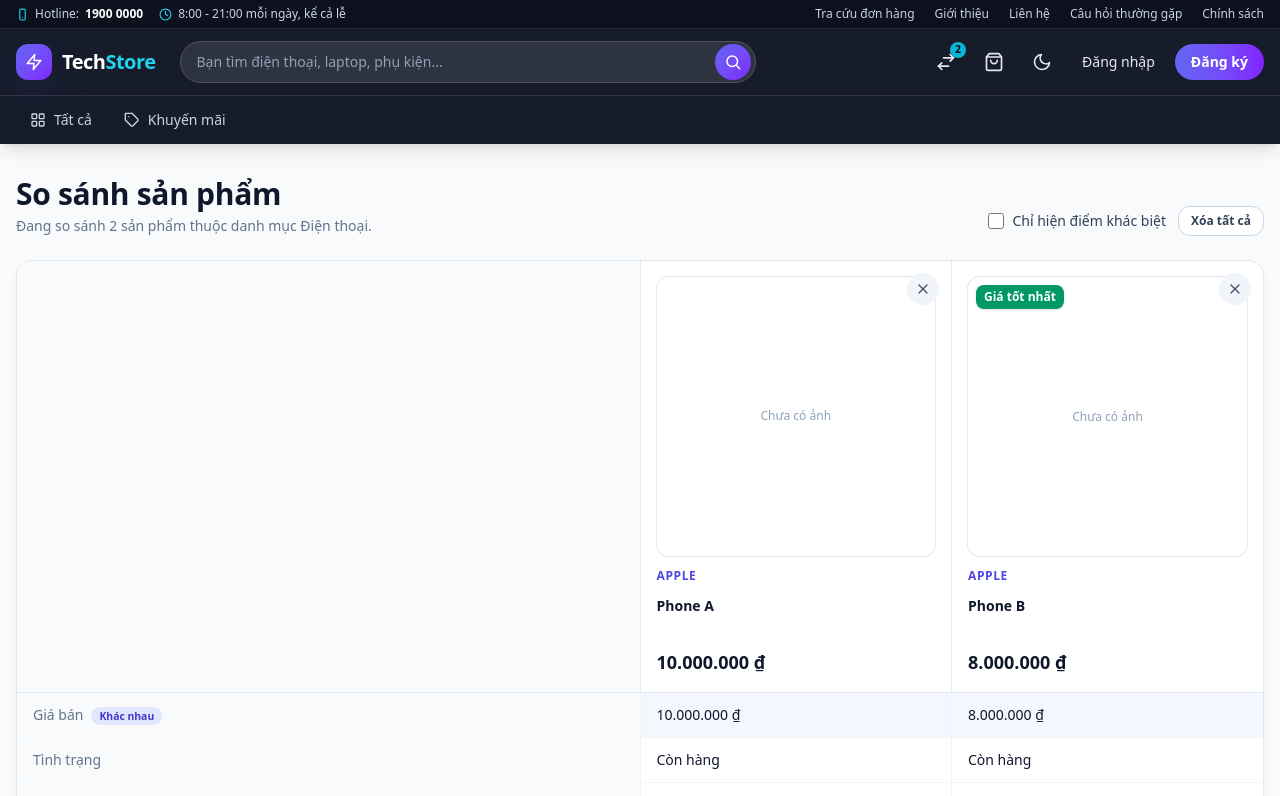
Trang so sánh › bấm dấu × trên một cột thì bỏ sản phẩm đó; còn 1 sản phẩm thì nhắc chọn thêm
Expected: the link "Phone B" is shown, [968, 596, 1025, 615]
Click the button named "Bỏ Phone B khỏi so sánh" at (1235, 289), box [1219, 273, 1251, 305]
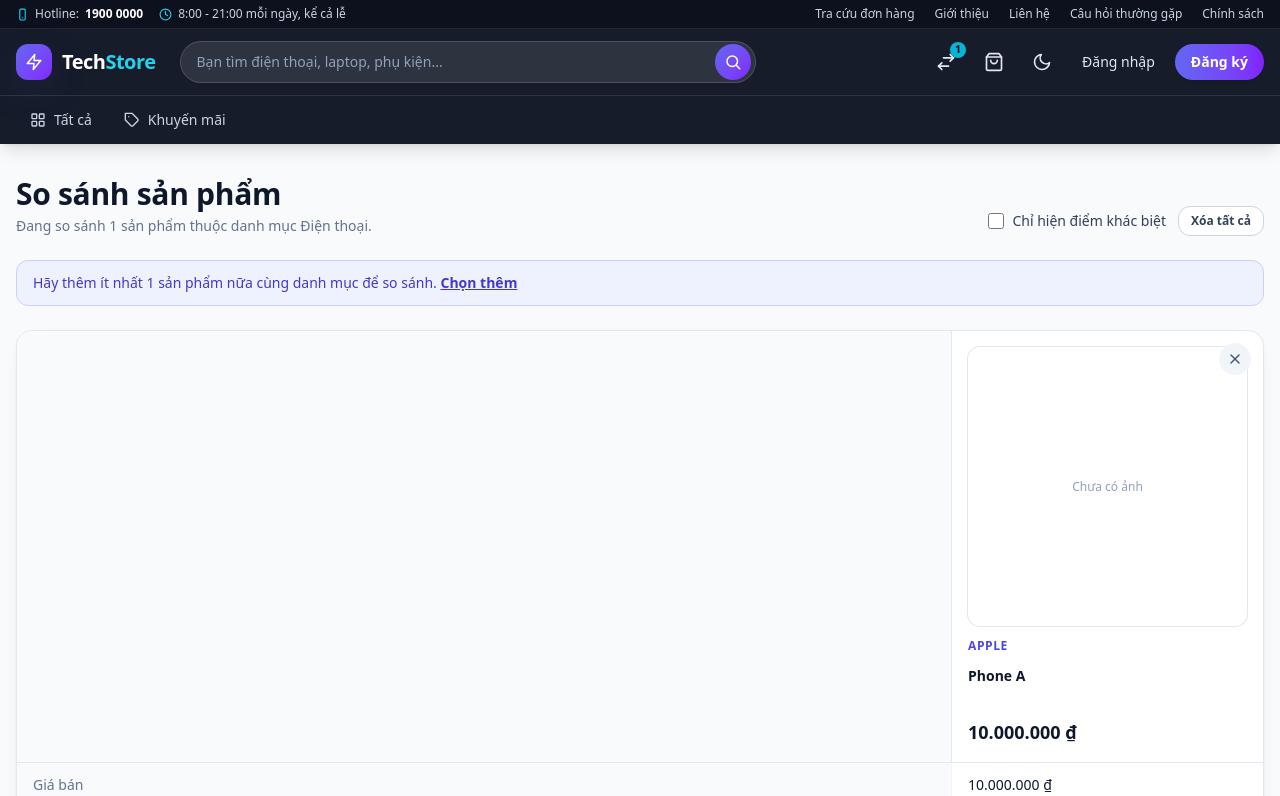
Expected: the text "Giá tốt nhất" is not shown
Now the link "Phone B" is gone
Now the message shows "thêm ít nhất 1 sản phẩm nữa", box [33, 273, 437, 292]
